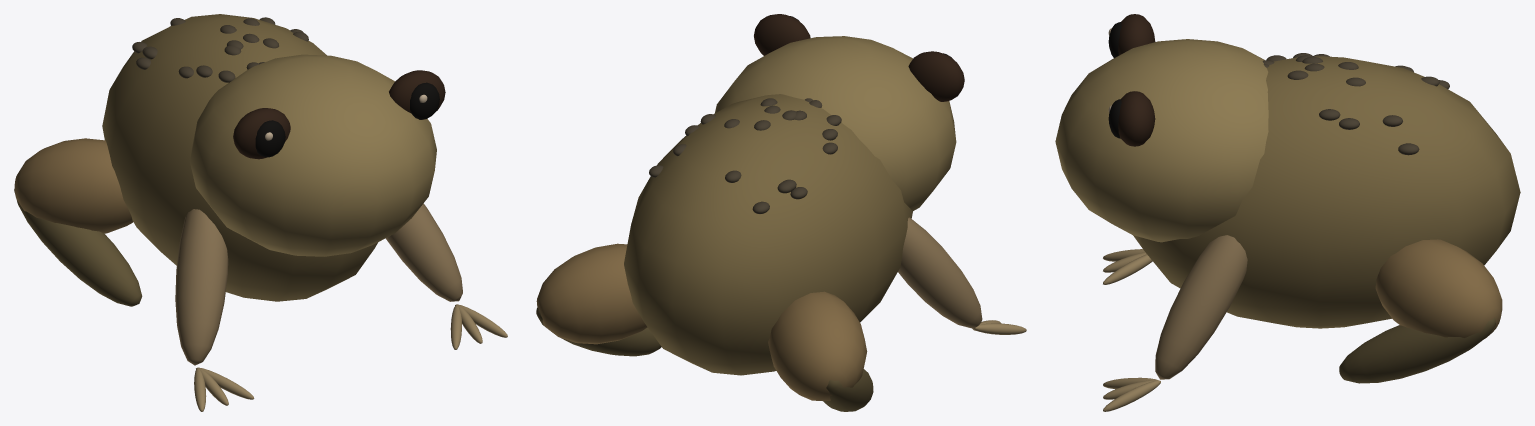
Rendered from nimba-toad.glb.
The picture shows the model from 3 angles, left to right: view 1: azimuth 30°, elevation 25°; view 2: azimuth 150°, elevation 25°; view 3: azimuth 270°, elevation 25°; orthographic projection. The views are drawn at different scales.
Parts seen in each view (by area): view 1: body; view 2: body; view 3: body.
Part boxes in pixels (<box>): body: <box>14,14,507,411</box>; body: <box>536,14,1026,411</box>; body: <box>1055,14,1520,411</box>.
Bounding box in the file's own units: 0.1274 × 0.1058 × 0.158.
